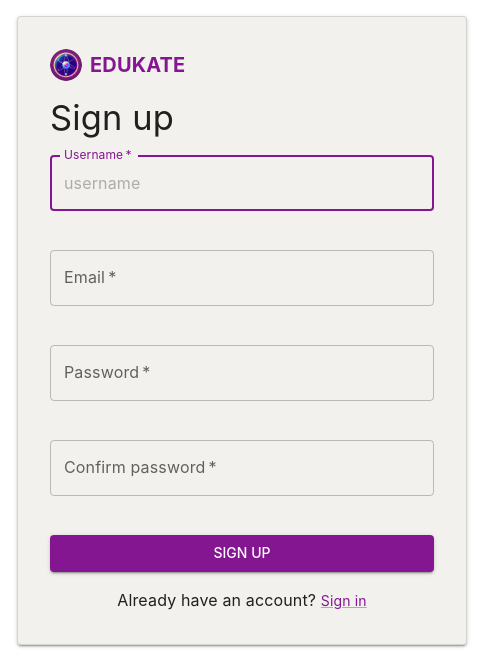
SignUpForm › shows do not match error on blur of confirm field when passwords differ
Step 1. Type "secret123" into the password field labelled "Password *" → (242, 373), box 50,345 -> 434,401
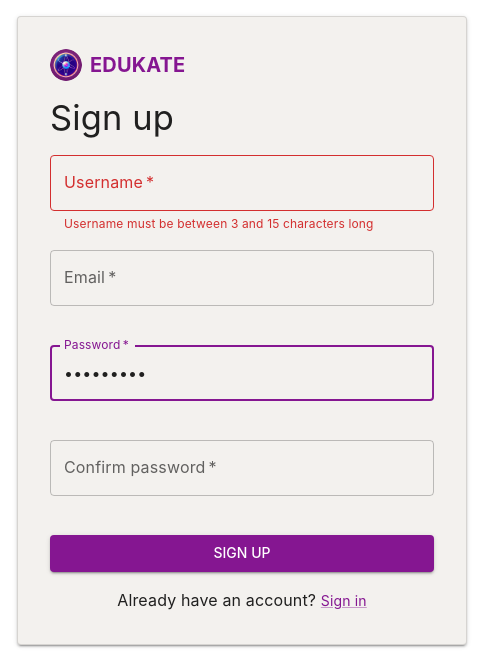
Step 2. Type "different" into the password field labelled "Confirm password *" → (242, 468), box 50,440 -> 434,496
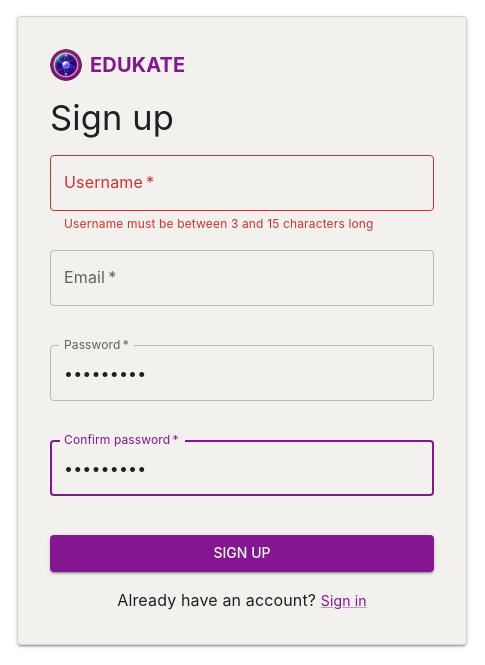
Step 3. Press Tab
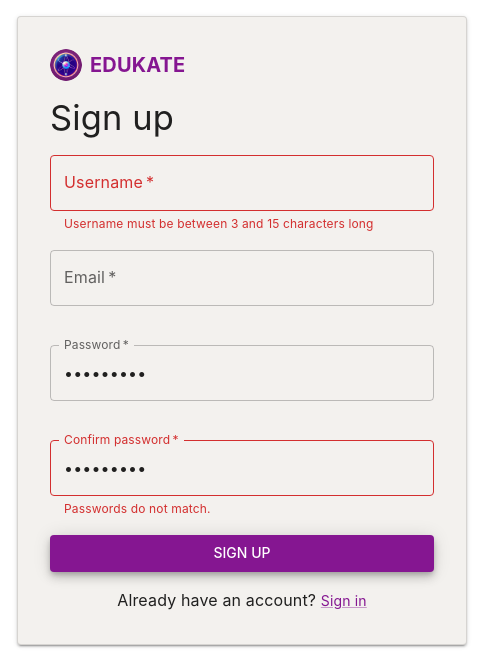
Expected: the text "Passwords do not match." is shown, 64,501 -> 211,516
